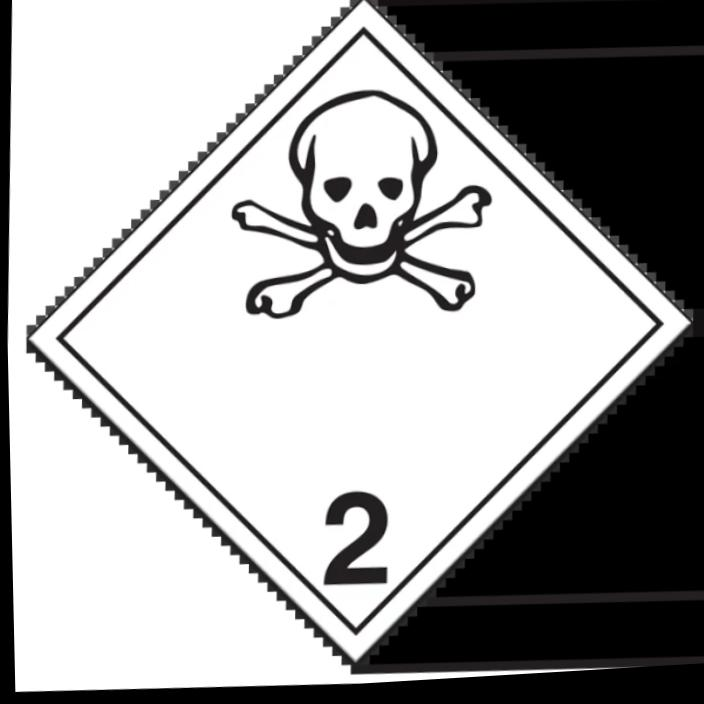camera: (28, 0, 690, 661)
